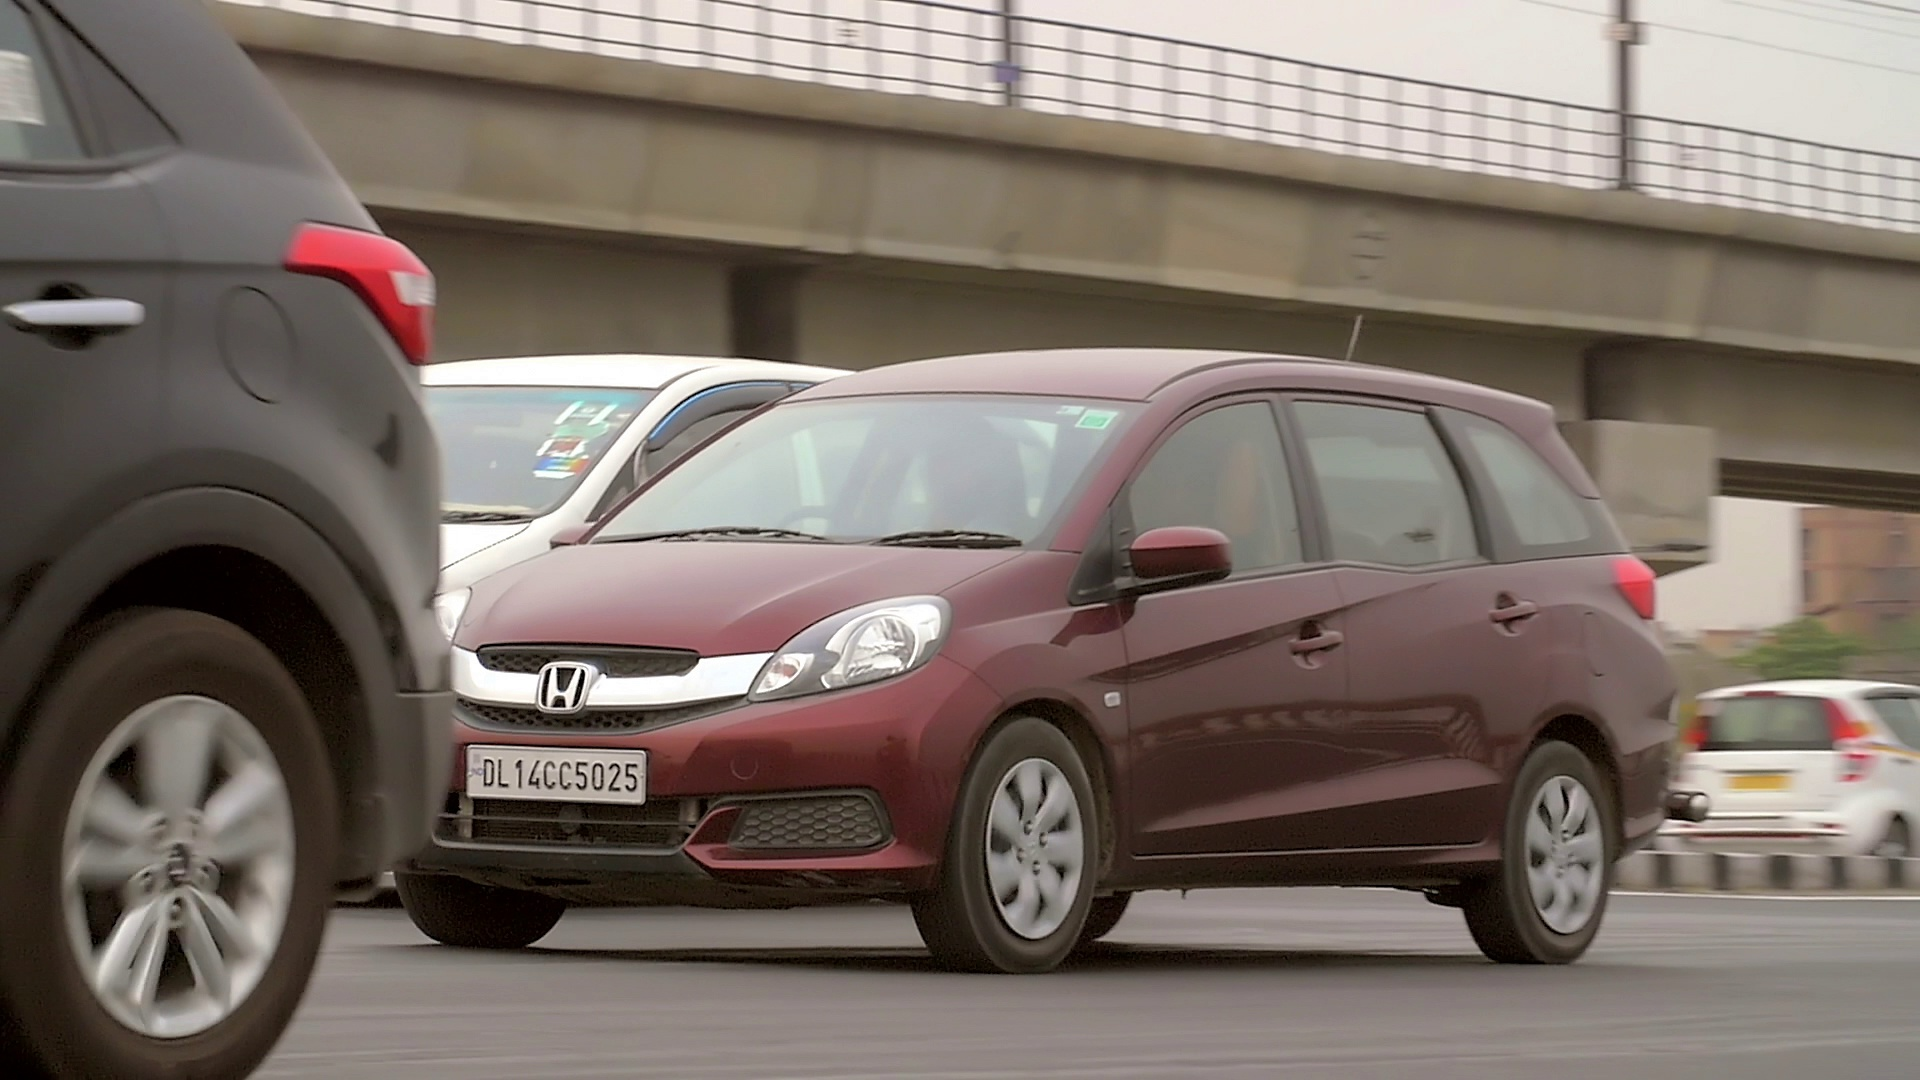car: (458, 367, 1727, 969)
